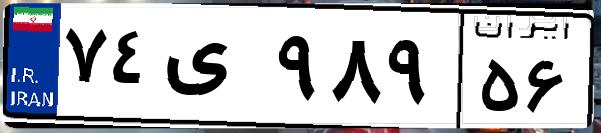4: (110, 28, 158, 98)
5: (475, 38, 525, 113)
6: (525, 38, 570, 115)
7: (57, 26, 110, 100)
8: (330, 28, 385, 110)
9: (270, 28, 330, 110), (385, 28, 445, 110)
ی: (158, 20, 270, 120)
